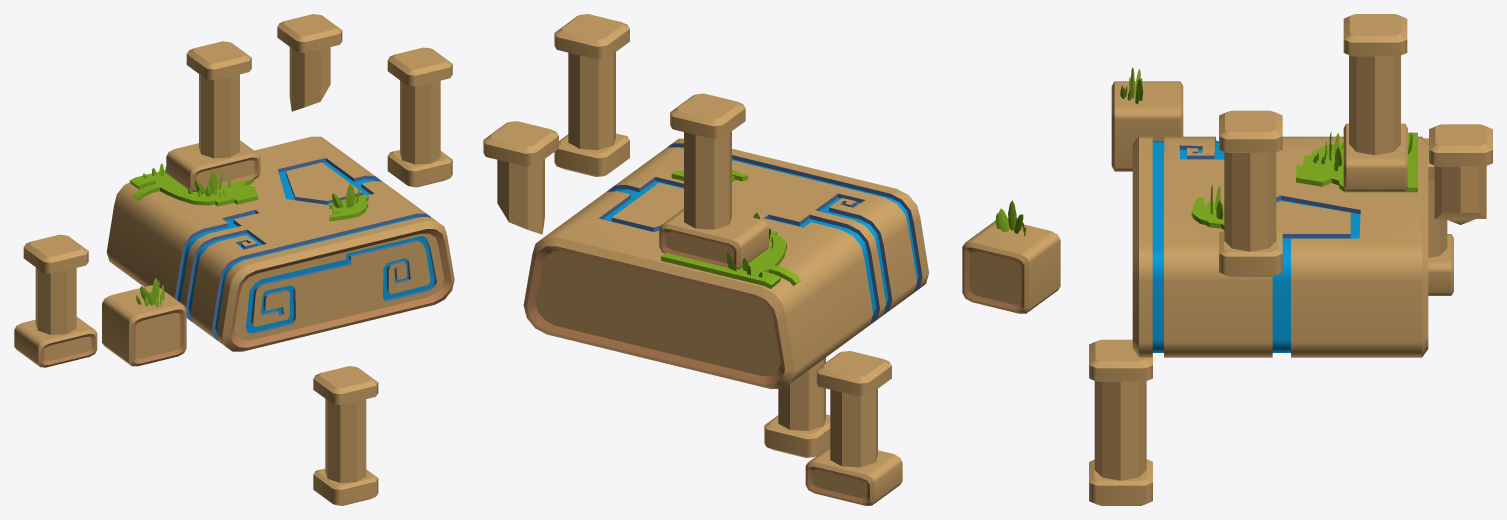
File: Exotic_Planet_Roman.fbx
3 renders of one model, left to right at view 1: azimuth 30°, elevation 25°; view 2: azimuth 150°, elevation 25°; view 3: azimuth 270°, elevation 25°, orthographic. The views are drawn at different scales.
Parts seen in each view (by area): view 1: Planet_Roman_Mesh; view 2: Planet_Roman_Mesh; view 3: Planet_Roman_Mesh.
Part boxes in pixels (<box>): Planet_Roman_Mesh: <box>14,14,454,505</box>; Planet_Roman_Mesh: <box>483,14,1060,505</box>; Planet_Roman_Mesh: <box>1089,14,1492,505</box>.
Bounding box in the file's own units: 7.55 × 7.28 × 5.83.
